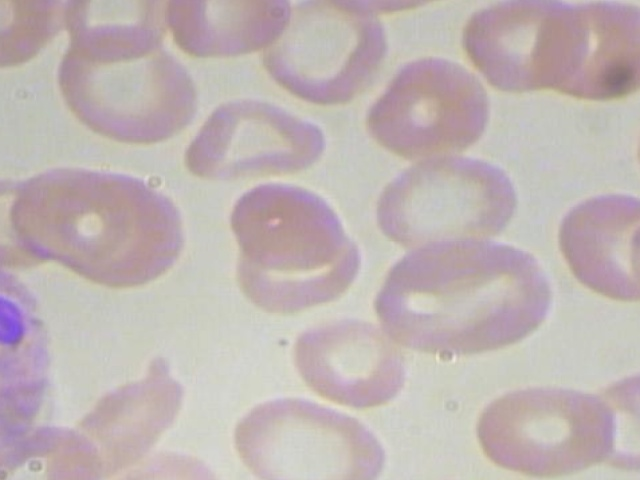RBC: (365, 233, 563, 364), (45, 23, 219, 150), (37, 352, 194, 480), (464, 373, 624, 480), (223, 390, 408, 480), (370, 152, 522, 257), (362, 53, 502, 163), (184, 89, 328, 191), (280, 311, 407, 414), (461, 0, 588, 100), (225, 174, 355, 271), (522, 0, 640, 106), (554, 188, 640, 307)
WBC: (0, 240, 53, 475)
